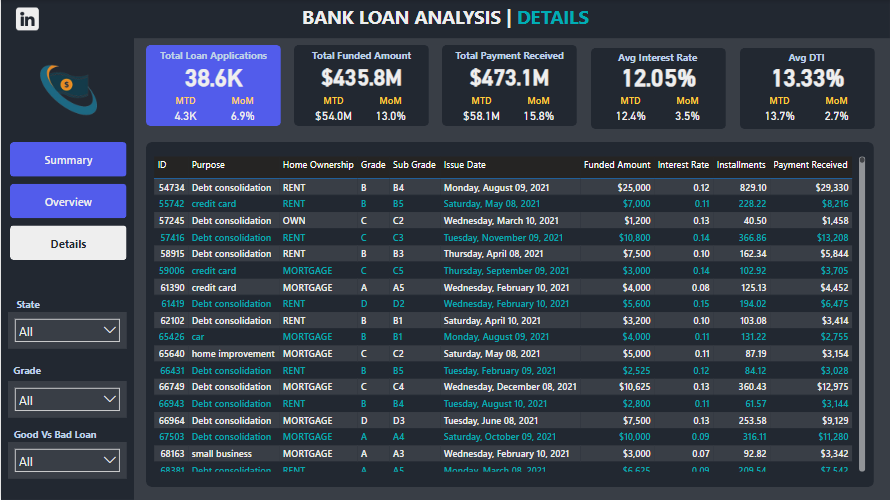

The page's visual inventory and layout, read from the dashboard file:
{"tool":"powerbi","page":{"name":"Details","canvas":[1280,720],"ordinal":2},"visuals":[{"type":"shape","box":[0,0,1280.2,55],"z":0},{"type":"shape","box":[208.8,64.6,194.4,116.6],"z":0,"group":"g1"},{"type":"shape","box":[422,64.6,194.4,116.6],"z":0,"group":"g2"},{"type":"shape","box":[635.2,64.6,194.4,116.6],"z":0,"group":"g5"},{"type":"shape","box":[849.6,69.2,194.4,116.6],"z":0,"group":"g3"},{"type":"shape","box":[1063.9,69.2,194.4,116.6],"z":0,"group":"g4"},{"type":"card","fields":{"Values":["Measures Table.Total Loan Applications"]},"box":[208.8,81.9,194.4,53.3],"z":1000,"group":"g1"},{"type":"card","fields":{"Values":["Measures Table.Total Funded Amount"]},"box":[422,81.9,194.4,53.3],"z":1000,"group":"g2"},{"type":"card","fields":{"Values":["Measures Table.Total Payment Received"]},"box":[635.2,81.9,194.4,53.3],"z":1000,"group":"g5"},{"type":"card","fields":{"Values":["Measures Table.Avg Interest Rate"]},"box":[849.3,81.9,194.4,53.3],"z":1000,"group":"g3"},{"type":"card","fields":{"Values":["Measures Table.Avg DTI"]},"box":[1063.6,81.9,194.4,53.3],"z":1000,"group":"g4"},{"type":"shape","box":[208.8,204.5,1048.3,496.8],"z":1000},{"type":"shape","box":[0,54.7,191.5,665.3],"z":2000},{"type":"textbox","box":[208.8,64.6,194.4,40.3],"z":2000,"group":"g1"},{"type":"textbox","box":[422,64.6,194.4,40.3],"z":2000,"group":"g2"},{"type":"textbox","box":[635.2,64.6,194.4,40.3],"z":2000,"group":"g5"},{"type":"textbox","box":[849.3,64.6,194.4,40.3],"z":2000,"group":"g3"},{"type":"textbox","box":[1063.6,64.6,194.4,40.3],"z":2000,"group":"g4"},{"type":"card","title":"MTD","fields":{"Values":["Measures Table.MTD Loan Applications"]},"box":[224.6,135.2,82.1,47.5],"z":3000,"group":"g1"},{"type":"card","title":"MTD","fields":{"Values":["Measures Table.MTD Funded Amount"]},"box":[437.8,135.2,82.1,47.5],"z":3000,"group":"g2"},{"type":"card","title":"MTD","fields":{"Values":["Measures Table.MTD Payment Received"]},"box":[651,135.2,82.1,47.5],"z":3000,"group":"g5"},{"type":"card","title":"MTD","fields":{"Values":["Measures Table.MTD Interest Rate"]},"box":[865.2,135.2,82.1,47.5],"z":3000,"group":"g3"},{"type":"card","title":"MTD","fields":{"Values":["Measures Table.MTD DTI"]},"box":[1079.5,135.2,82.1,47.5],"z":3000,"group":"g4"},{"type":"textbox","box":[11.5,423.4,54.7,36],"z":3000},{"type":"textbox","box":[0,0,1280.2,54.7],"z":4000},{"type":"card","title":"MoM","fields":{"Values":["Measures Table.MoM Loan Application"]},"box":[306.7,135.2,82.1,47.5],"z":4000,"group":"g1"},{"type":"card","title":"MoM","fields":{"Values":["Measures Table.MoM Funded Amount"]},"box":[519.9,135.2,82.1,47.5],"z":4000,"group":"g2"},{"type":"card","title":"MoM","fields":{"Values":["Measures Table.MoM Payment Received"]},"box":[733.1,135.2,82.1,47.5],"z":4000,"group":"g5"},{"type":"card","title":"MoM","fields":{"Values":["Measures Table.MoM Interest Rate"]},"box":[947.2,135.2,82.1,47.5],"z":4000,"group":"g3"},{"type":"card","title":"MoM","fields":{"Values":["Measures Table.MoM DTI"]},"box":[1161.5,135.2,82.1,47.5],"z":4000,"group":"g4"},{"type":"group","id":"g1","title":"Total Loan Application","box":[208.8,64.6,194.4,118.1],"z":5000},{"type":"textbox","box":[848.4,68.1,194.4,40.3],"z":5000,"group":"g3"},{"type":"textbox","box":[1062.7,68.1,194.4,40.3],"z":5000,"group":"g4"},{"type":"group","id":"g2","title":"Total Funded Amount","box":[422,64.6,194.4,118.1],"z":6000},{"type":"group","id":"g3","title":"Avg Interest Rate","box":[848.4,64.6,195.6,121.2],"z":7000},{"type":"group","id":"g4","title":"Avg DTI","box":[1062.7,64.6,195.8,121],"z":8000},{"type":"group","id":"g5","title":"Total Payment Received","box":[635.2,64.6,194.4,118.1],"z":9000},{"type":"slicer","fields":{"Values":["bank_loan_data.address_state"]},"box":[10.4,449.3,171.4,53.3],"z":10000},{"type":"textbox","box":[8.6,518.4,57.6,47.5],"z":11000},{"type":"slicer","fields":{"Values":["bank_loan_data.grade"]},"box":[10.4,548.6,171.4,53.3],"z":12000},{"type":"textbox","box":[7.2,610.6,141.1,36],"z":13000},{"type":"slicer","fields":{"Values":["bank_loan_data.Good vs Bad Loan"]},"box":[10.4,636.3,171.4,53.3],"z":14000},{"type":"tableEx","fields":{"Values":["bank_loan_data.id","bank_loan_data.purpose","bank_loan_data.home_ownership","bank_loan_data.grade","bank_loan_data.sub_grade","bank_loan_data.issue_date","Measures Table.Total Funded Amount","Sum(bank_loan_data.int_rate)","Sum(bank_loan_data.installment)","Measures Table.Total Payment Received"]},"box":[214.6,220.3,1035.4,463.7],"z":15000},{"type":"image","box":[1.4,54.7,191.5,149.8],"z":16000},{"type":"pageNavigator","box":[13,204.5,168.5,172.8],"z":17000},{"type":"image","box":[11.5,5.8,53.3,43.2],"z":18000}]}

Visuals, with their boxes in screenshot pixels (x1, y1, x2, y2), scaled from the page's 1280x720 canvas onto the 890x500 screenshot:
shape: Rect(0, 0, 889, 38)
shape: Rect(145, 45, 280, 126)
shape: Rect(293, 45, 429, 126)
shape: Rect(442, 45, 577, 126)
shape: Rect(591, 48, 726, 129)
shape: Rect(740, 48, 875, 129)
card - Measures Table.Total Loan Applications: Rect(145, 57, 280, 94)
card - Measures Table.Total Funded Amount: Rect(293, 57, 429, 94)
card - Measures Table.Total Payment Received: Rect(442, 57, 577, 94)
card - Measures Table.Avg Interest Rate: Rect(591, 57, 726, 94)
card - Measures Table.Avg DTI: Rect(740, 57, 875, 94)
shape: Rect(145, 142, 874, 487)
shape: Rect(0, 38, 133, 499)
textbox: Rect(145, 45, 280, 73)
textbox: Rect(293, 45, 429, 73)
textbox: Rect(442, 45, 577, 73)
textbox: Rect(591, 45, 726, 73)
textbox: Rect(740, 45, 875, 73)
"MTD" card: Rect(156, 94, 213, 127)
"MTD" card: Rect(304, 94, 361, 127)
"MTD" card: Rect(453, 94, 510, 127)
"MTD" card: Rect(602, 94, 659, 127)
"MTD" card: Rect(751, 94, 808, 127)
textbox: Rect(8, 294, 46, 319)
textbox: Rect(0, 0, 889, 38)
"MoM" card: Rect(213, 94, 270, 127)
"MoM" card: Rect(361, 94, 419, 127)
"MoM" card: Rect(510, 94, 567, 127)
"MoM" card: Rect(659, 94, 716, 127)
"MoM" card: Rect(808, 94, 865, 127)
"Total Loan Application" group: Rect(145, 45, 280, 127)
textbox: Rect(590, 47, 725, 75)
textbox: Rect(739, 47, 874, 75)
"Total Funded Amount" group: Rect(293, 45, 429, 127)
"Avg Interest Rate" group: Rect(590, 45, 726, 129)
"Avg DTI" group: Rect(739, 45, 875, 129)
"Total Payment Received" group: Rect(442, 45, 577, 127)
slicer - bank_loan_data.address_state: Rect(7, 312, 126, 349)
textbox: Rect(6, 360, 46, 393)
slicer - bank_loan_data.grade: Rect(7, 381, 126, 418)
textbox: Rect(5, 424, 103, 449)
slicer - bank_loan_data.Good vs Bad Loan: Rect(7, 442, 126, 479)
tableEx - bank_loan_data.id x bank_loan_data.purpose: Rect(149, 153, 869, 475)
image: Rect(1, 38, 134, 142)
pageNavigator: Rect(9, 142, 126, 262)
image: Rect(8, 4, 45, 34)
